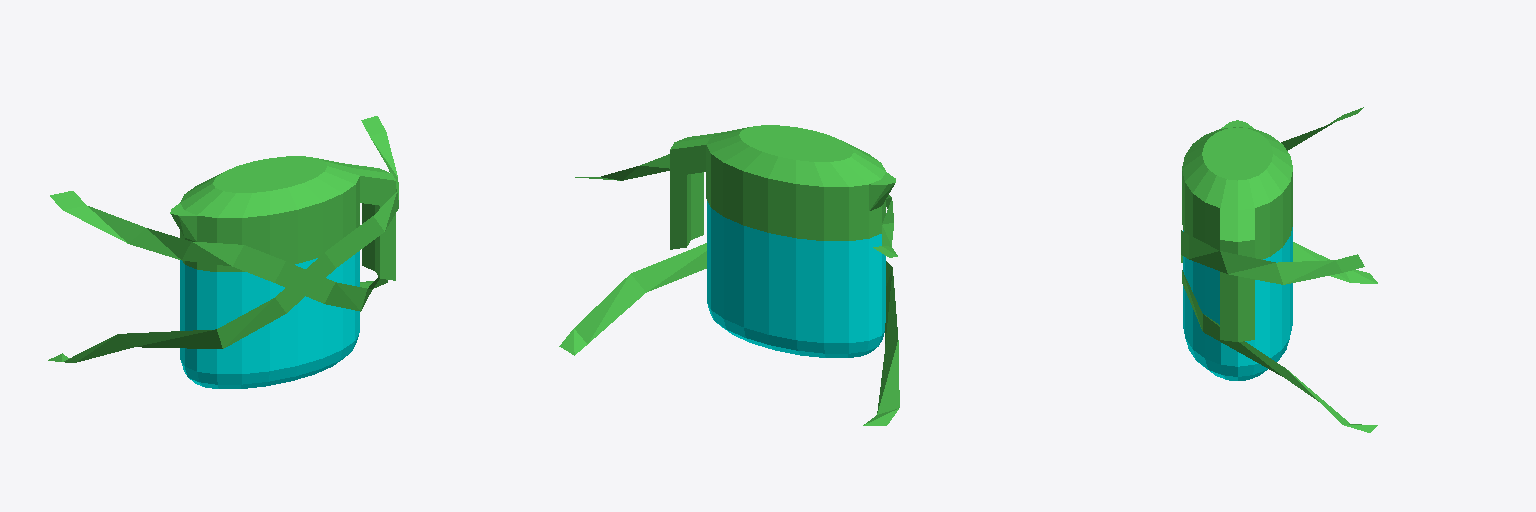
Rendered from QualityUpgradeA.obj.
The picture shows the model from 3 angles: view 1: azimuth 30°, elevation 25°; view 2: azimuth 150°, elevation 25°; view 3: azimuth 270°, elevation 25°; orthographic projection.
Parts seen in each view (by area): view 1: QualityUpgrade_A pPlane3, pCylinder10 QualityUpgrade_A; view 2: QualityUpgrade_A pPlane3, pCylinder10 QualityUpgrade_A; view 3: QualityUpgrade_A pPlane3, pCylinder10 QualityUpgrade_A.
Boxes of the visible parts, x1,y1,x2,y2 form: QualityUpgrade_A pPlane3: [48, 116, 398, 362]; pCylinder10 QualityUpgrade_A: [180, 251, 359, 388]; QualityUpgrade_A pPlane3: [559, 125, 899, 425]; pCylinder10 QualityUpgrade_A: [707, 201, 885, 357]; QualityUpgrade_A pPlane3: [1181, 107, 1377, 432]; pCylinder10 QualityUpgrade_A: [1183, 227, 1292, 380].
Size of the model in its own units: 1.07 by 0.6142 by 0.5597.